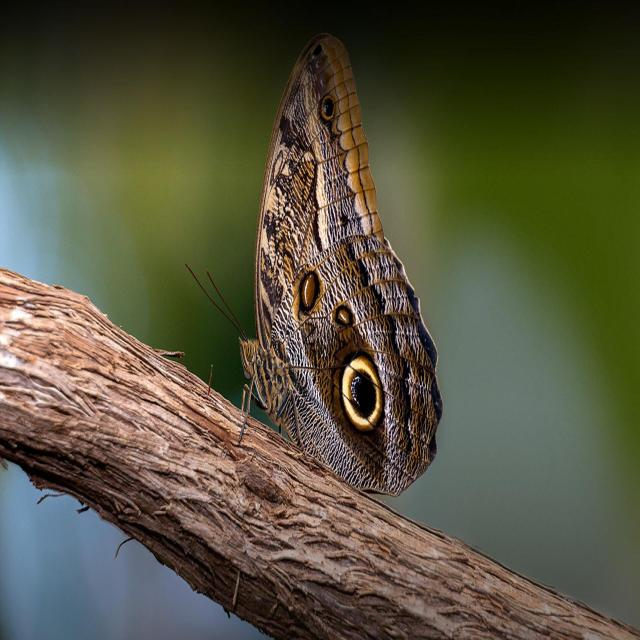butterfly: (180, 26, 457, 503)
